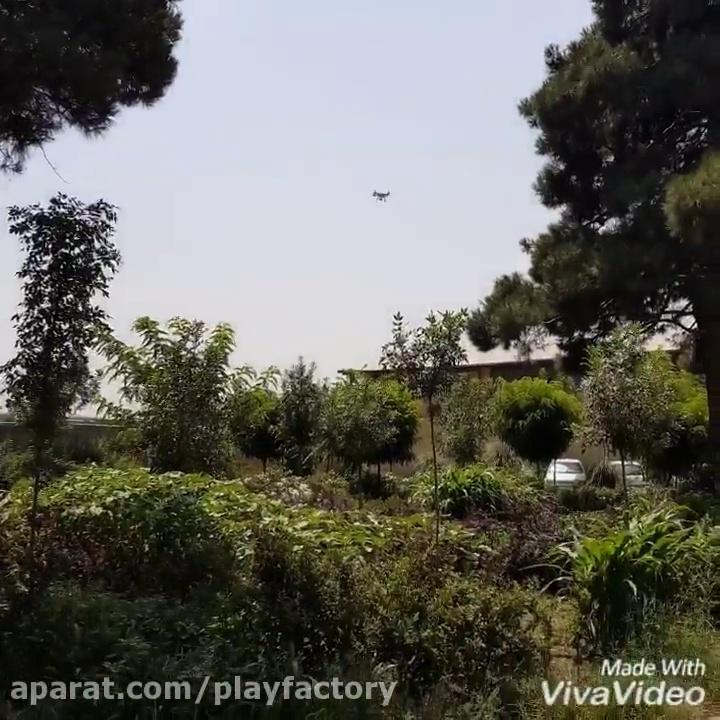drone: (367, 182, 396, 205)
